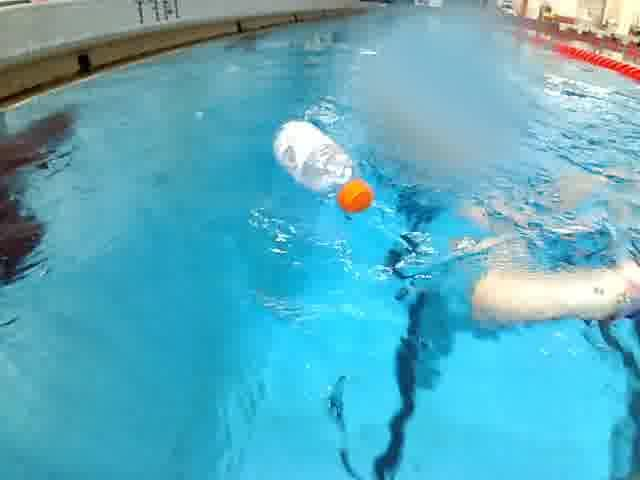Bottle: (263, 108, 380, 220)
